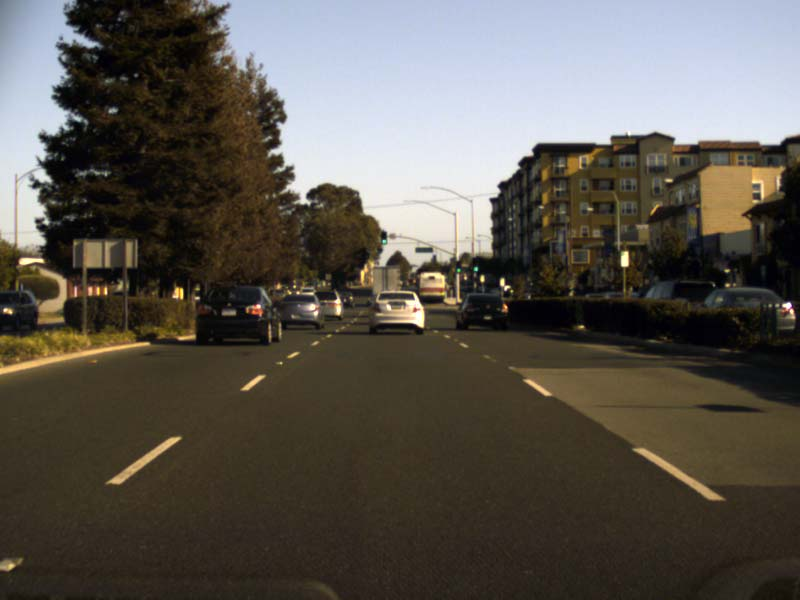Green: (472, 257, 479, 271), (380, 231, 387, 244), (456, 262, 460, 272)
